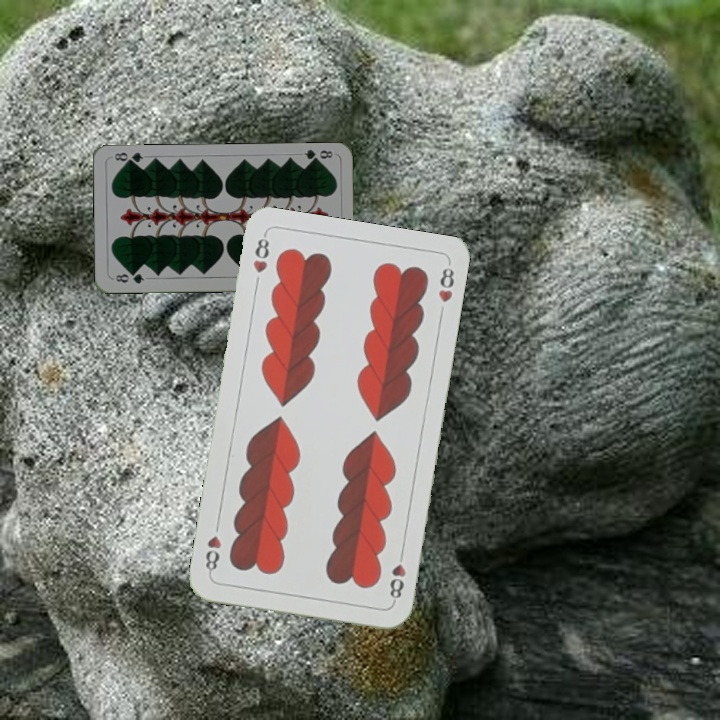G8: (300, 146, 335, 165), (109, 269, 147, 286)
H8: (385, 547, 408, 605), (249, 231, 272, 276)
